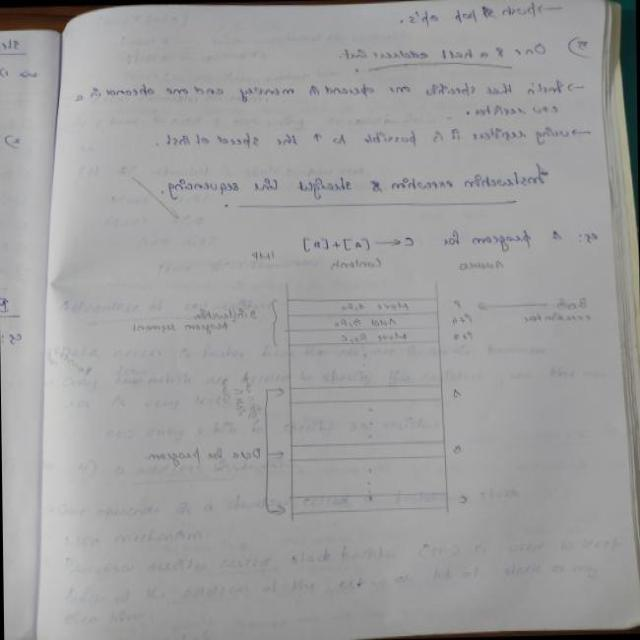Figure Detection - v3 Dataset Version2: (128, 273, 601, 540)
